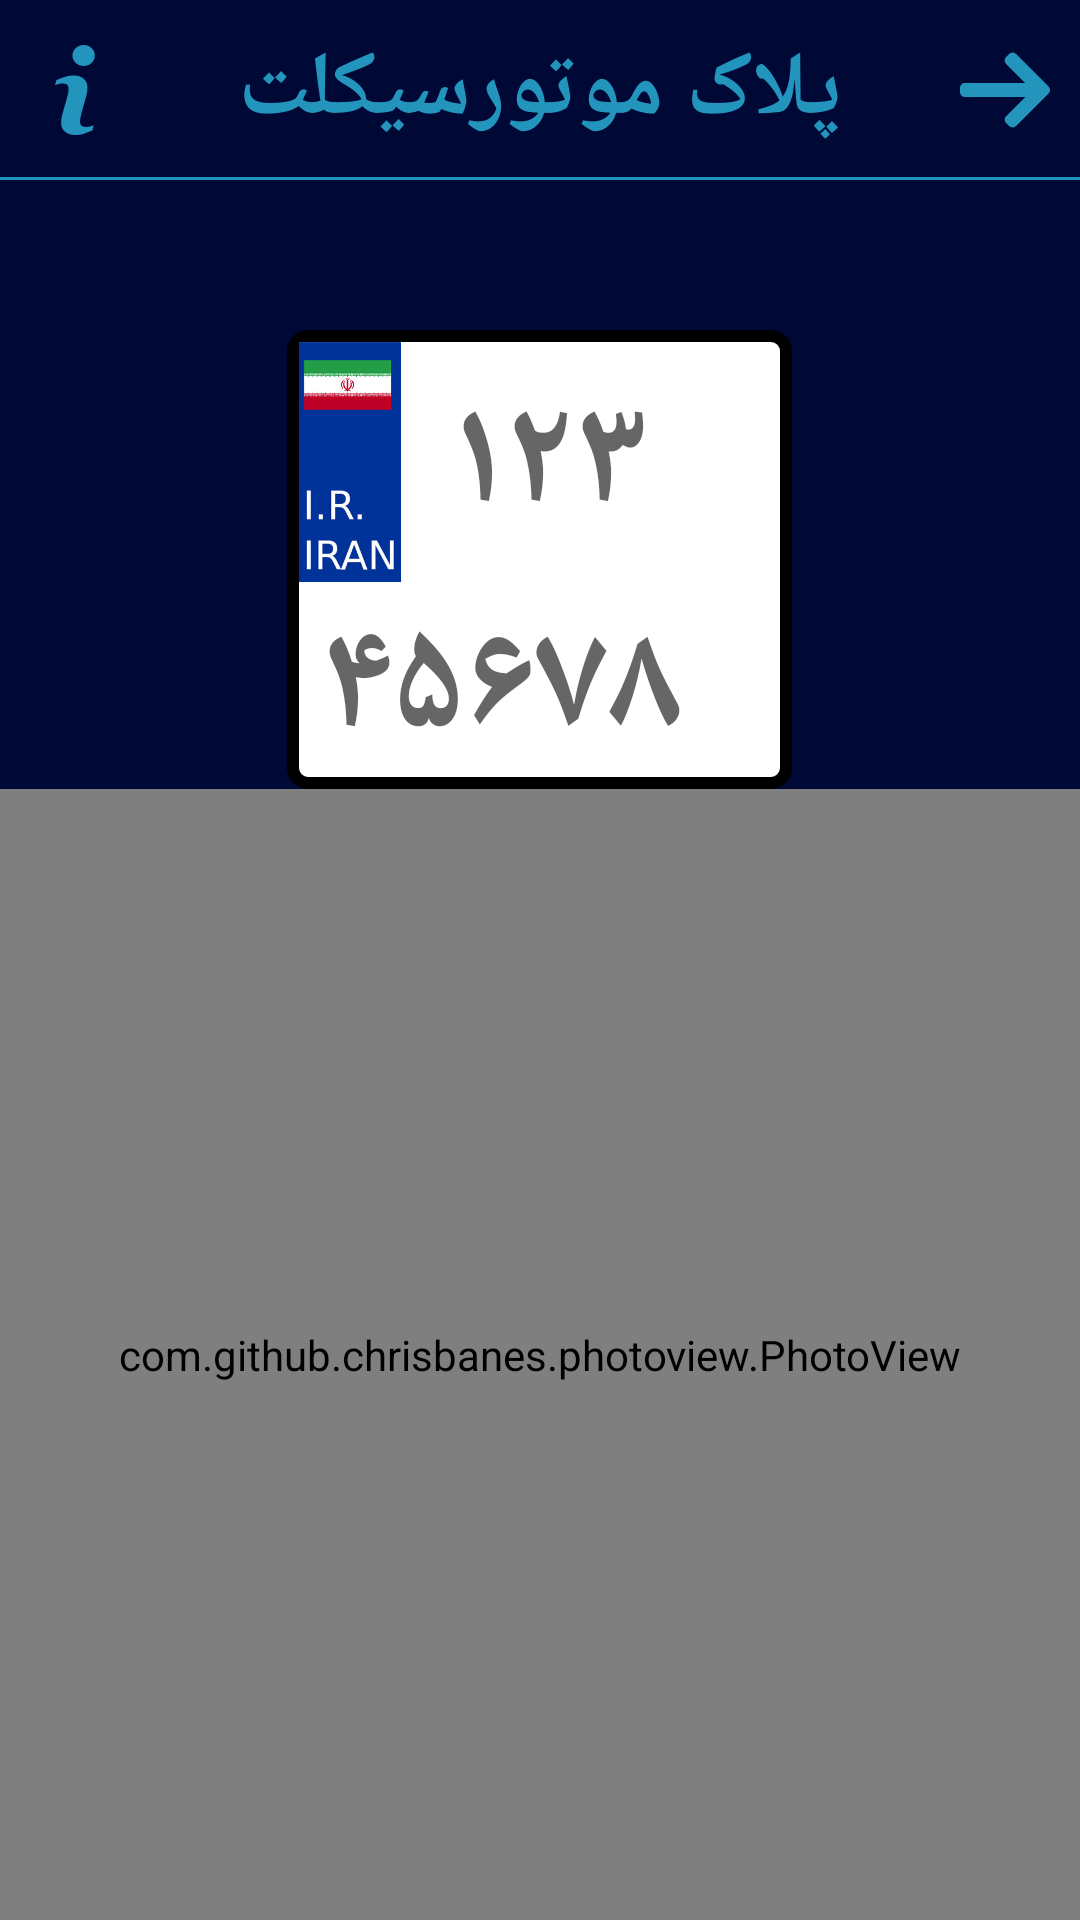

Icon click points for this 1080w x 1920h phone screenshot, format (x=x, y=y):
back: (x=1005, y=90)
info: (x=75, y=90)
